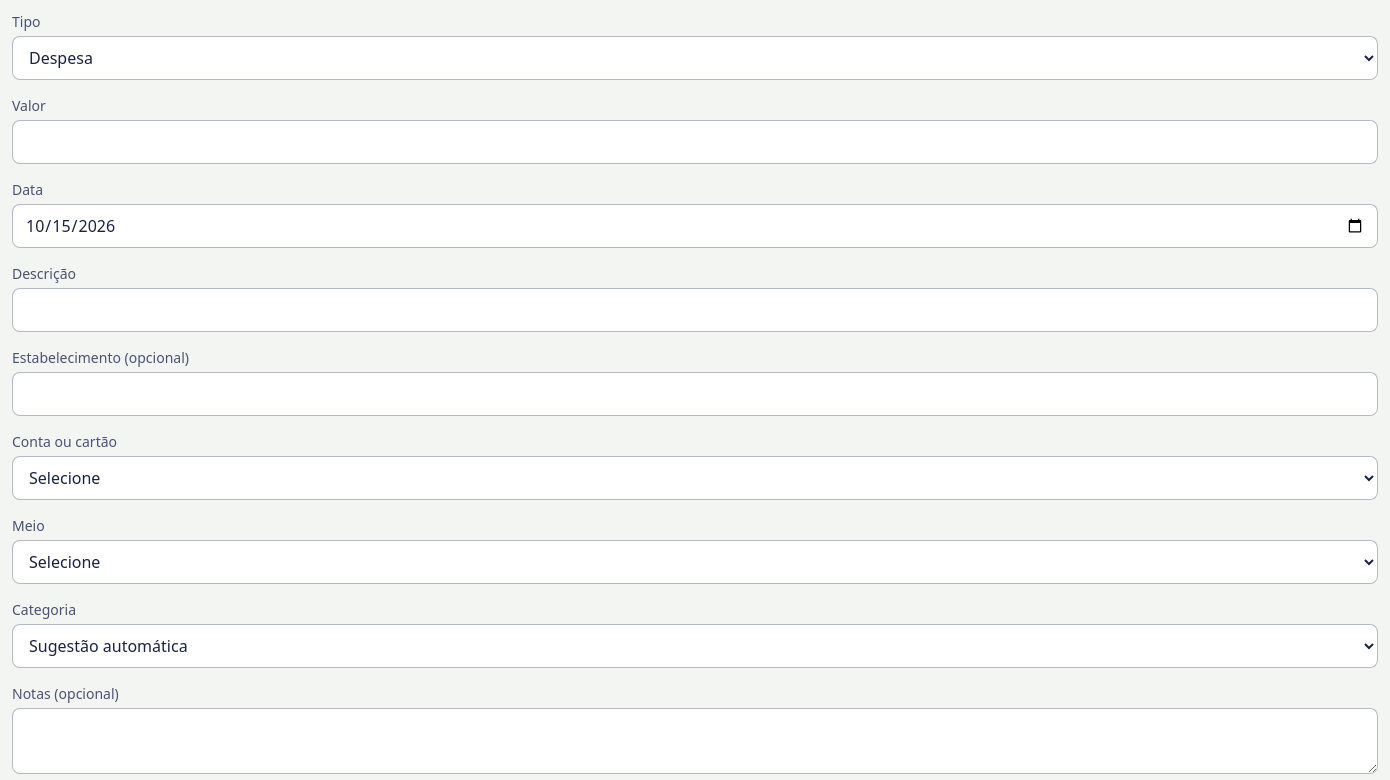
Test: transfer requires a destination different from the origin
The width and height of the screenshot is (1390, 780).
Select "Transferência" in the dropdown labelled "Tipo". click: (695, 58)
box: [12,36,1378,80]
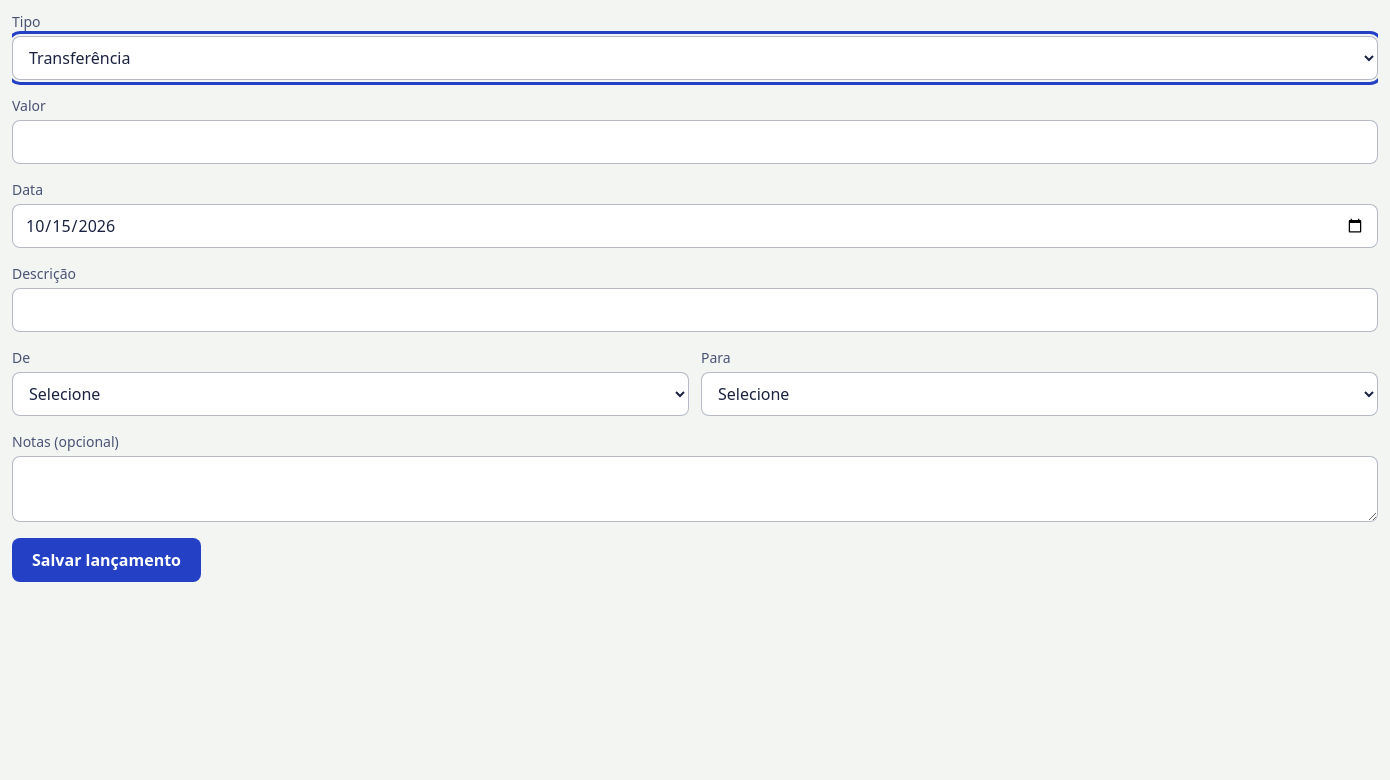
Type "10" into the field labelled "Valor". click: (695, 142)
box: [12,120,1378,164]
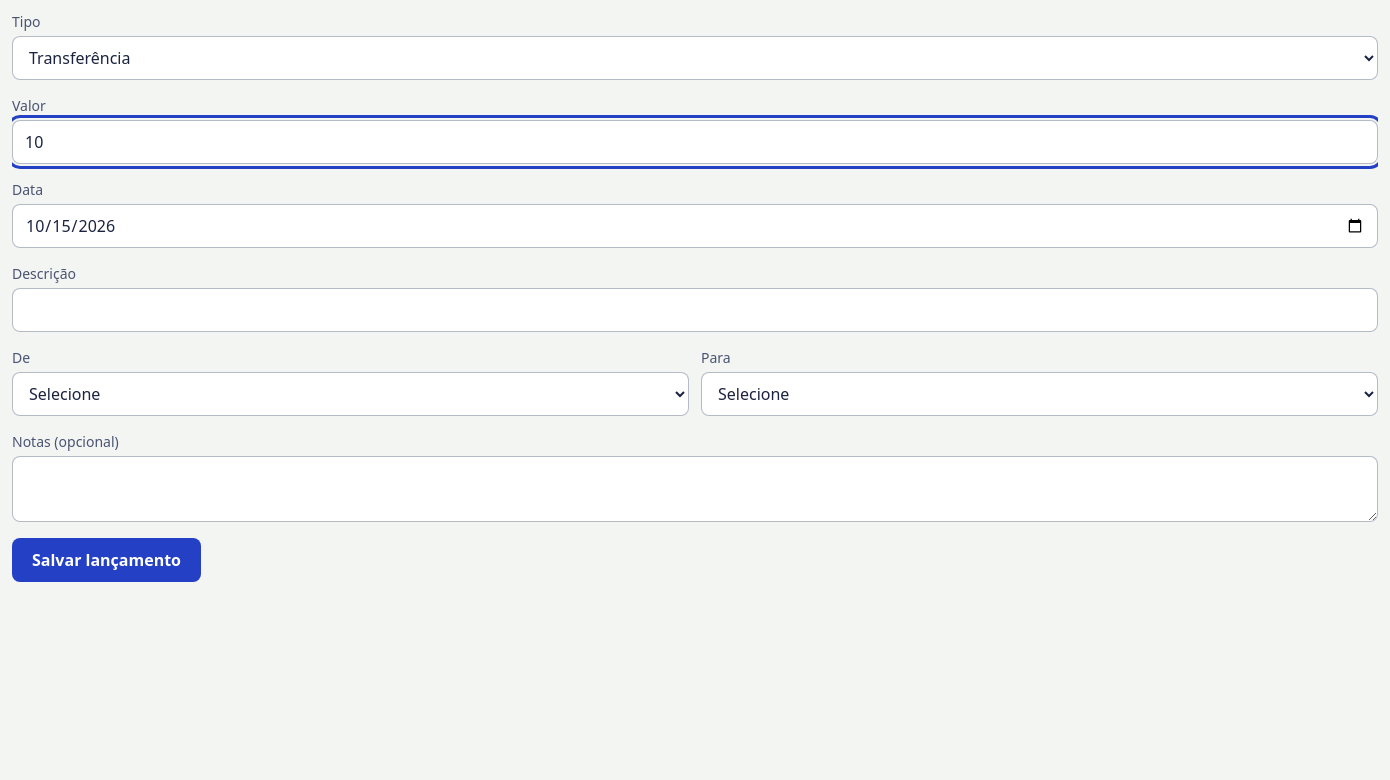
Type "Reserva" into the field labelled "Descrição". click: (695, 310)
box: [12,288,1378,332]
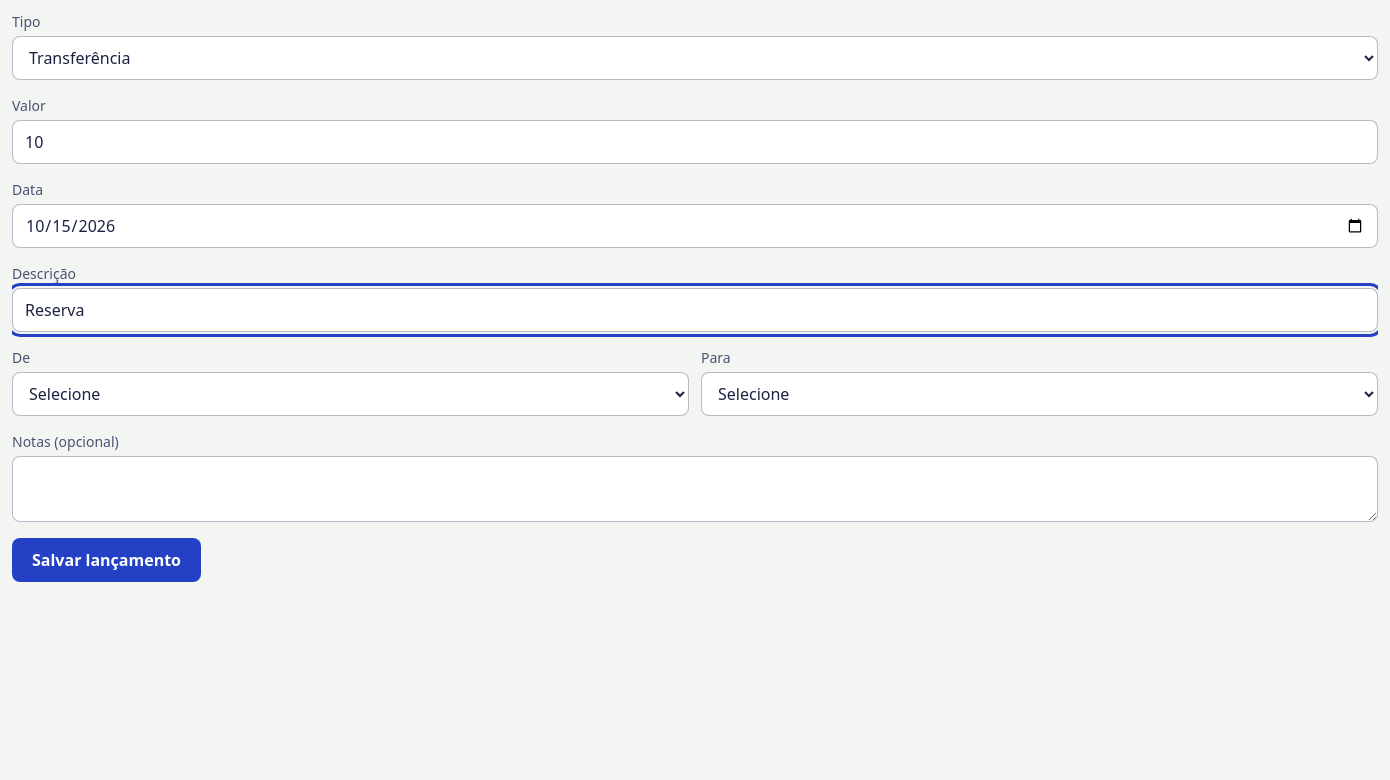
Select "Itaú" in the dropdown labelled "De". click: (350, 394)
box: [12,372,689,416]
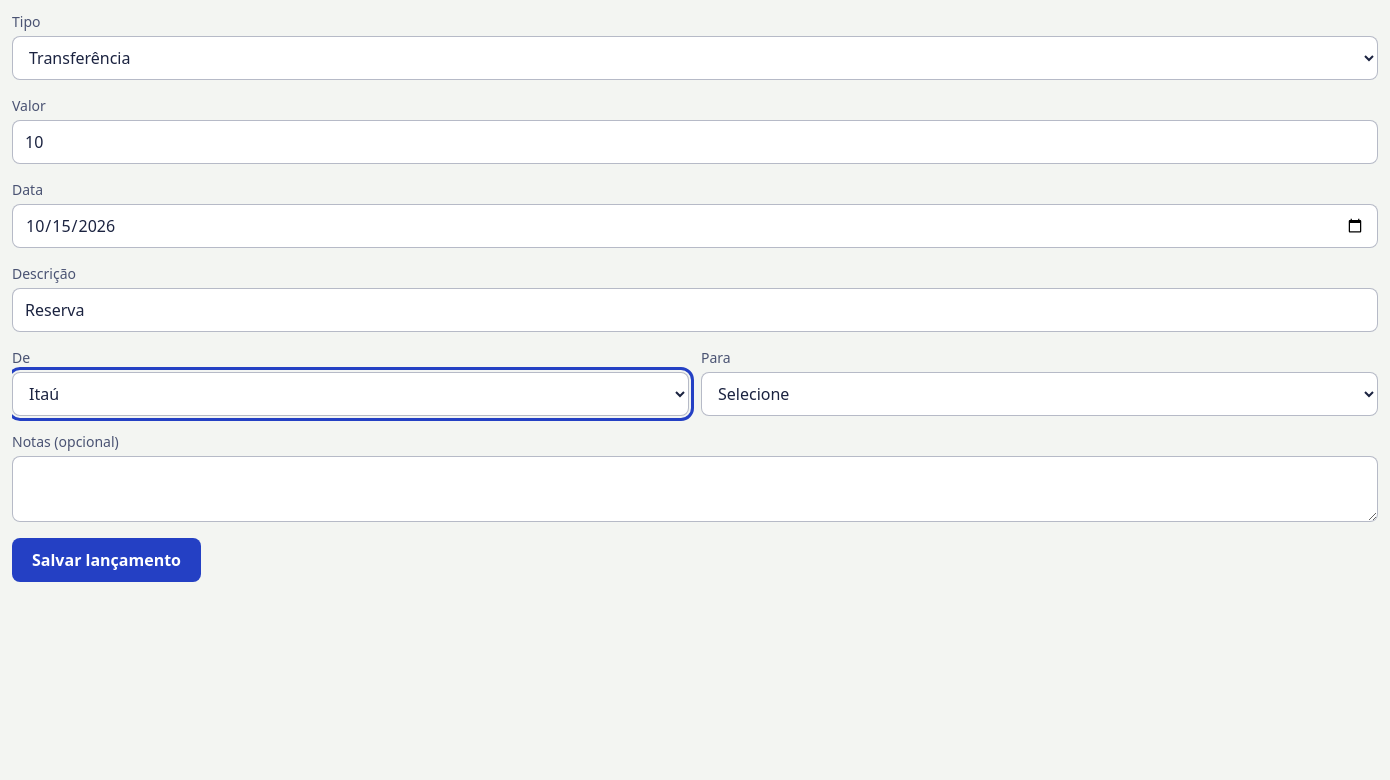
Select "Itaú" in the dropdown labelled "Para". click: (1040, 394)
box: [701,372,1378,416]
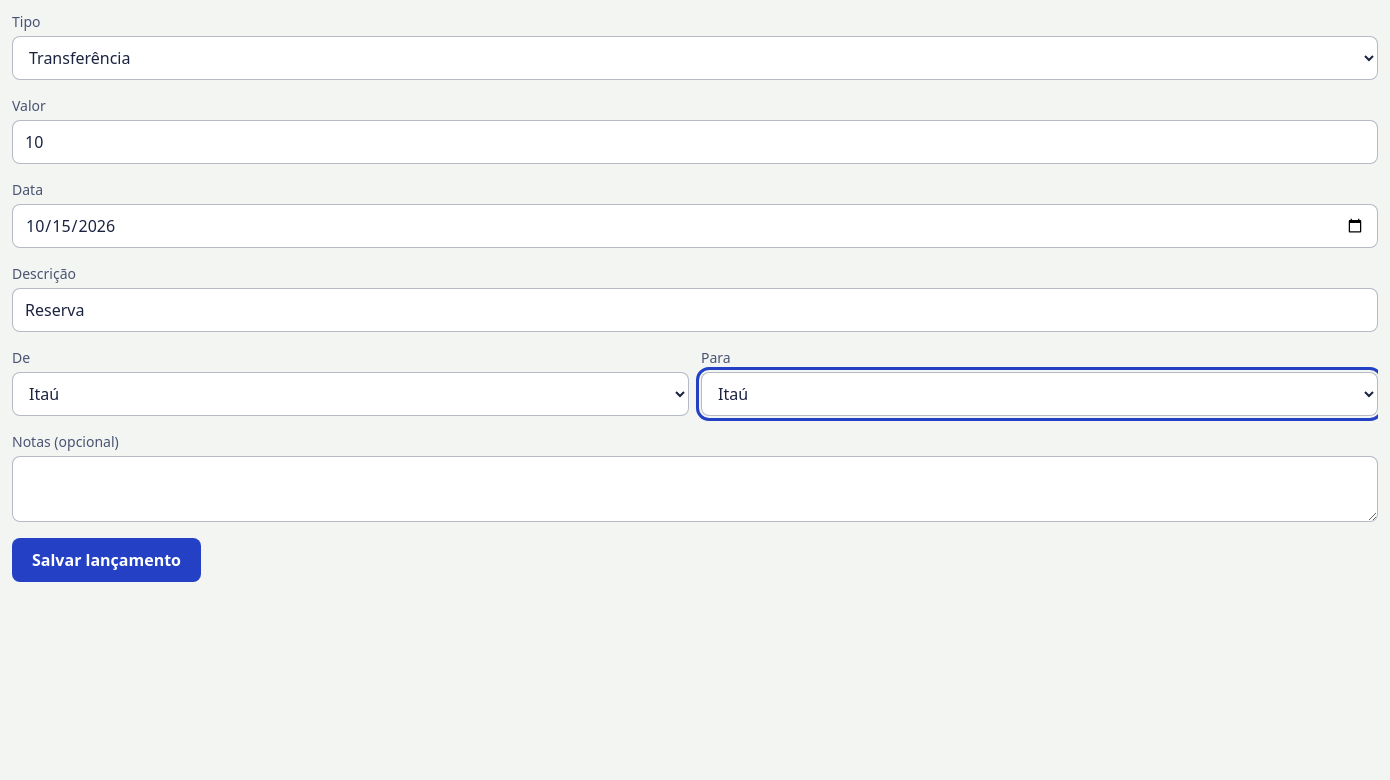
Click the button "Salvar lançamento". click: (106, 560)
box: [12,538,201,582]
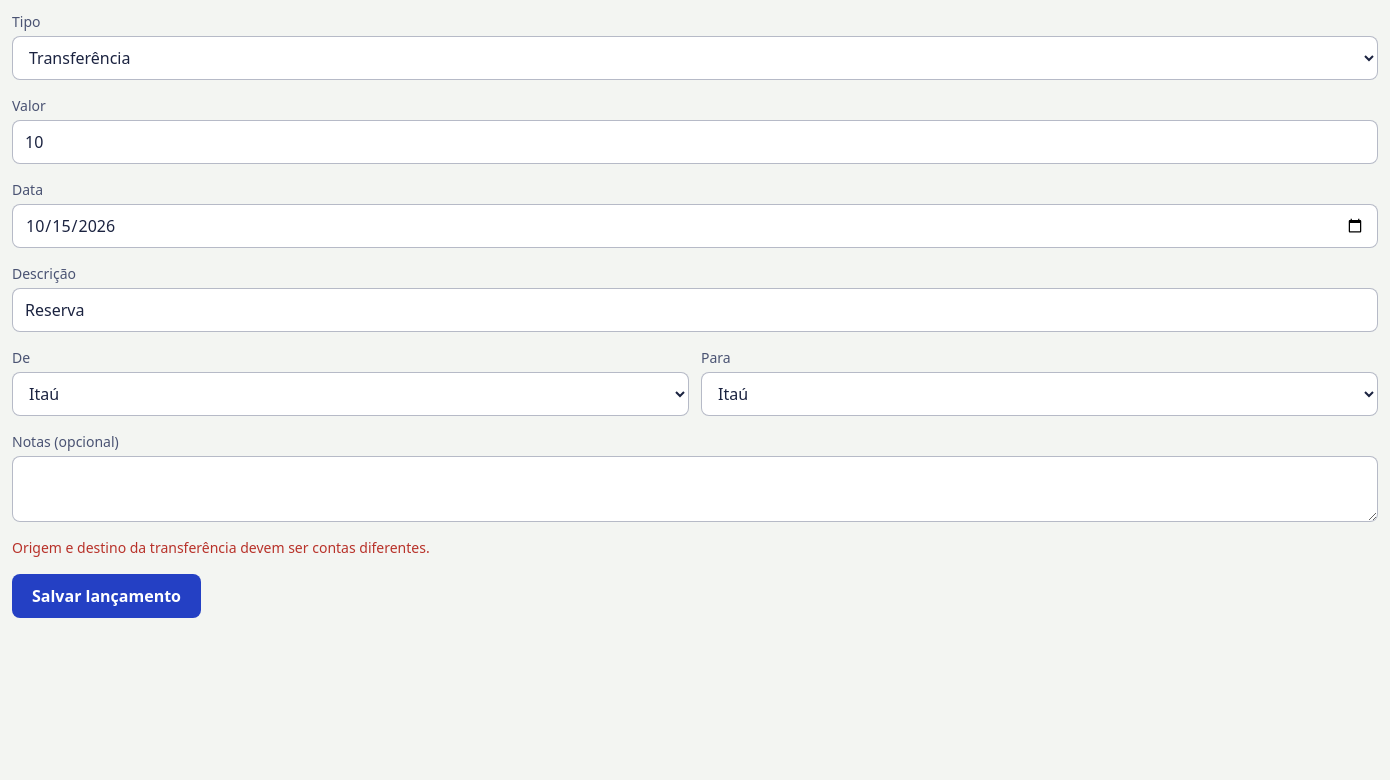
Result: the message reads "Origem e destino da transferência devem ser contas diferentes." at [12,538,430,557]
